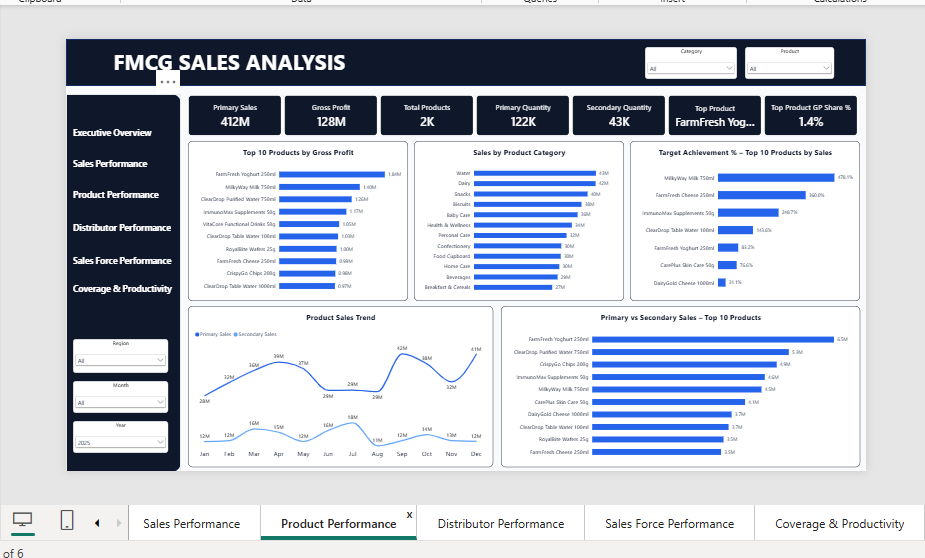

The page's visual inventory and layout, read from the dashboard file:
{"tool":"powerbi","page":{"name":"Product Performance","canvas":[2000,1082],"ordinal":2},"visuals":[{"type":"shape","box":[0,0,2000,117.5],"z":0},{"type":"textbox","box":[0,20,817.5,80],"z":1000},{"type":"shape","box":[0,137.5,287.5,945],"z":2000},{"type":"textbox","box":[17.5,297.5,237.5,32.5],"z":3000},{"type":"textbox","box":[17.5,220,215,45],"z":4000},{"type":"textbox","box":[17.5,375,255,35],"z":5000},{"type":"textbox","box":[17.5,457.5,255,37.5],"z":6000},{"type":"textbox","box":[17.5,540,255,37.5],"z":7000},{"type":"textbox","box":[17.5,610,255,37.5],"z":8000},{"type":"slicer","title":"Year","fields":{"Values":["DimDate.Year"]},"box":[17.5,955,237.5,80],"z":40300},{"type":"slicer","title":"Month","fields":{"Values":["DimDate.Month"]},"box":[17.5,855,237.5,80],"z":40400},{"type":"slicer","title":"Region","fields":{"Values":["DistributorMaster.Region"]},"box":[17.5,750,237.5,85],"z":40500},{"type":"slicer","title":"Category","fields":{"Values":["ProductMaster.Category"]},"box":[1447.5,20,230,80],"z":40600},{"type":"slicer","title":"Product","fields":{"Values":["ProductMaster.Product_Name"]},"box":[1697.5,20,222.5,80],"z":40700},{"type":"cardVisual","fields":{"Data":["_measures.Primary Sales","_measures.Gross Profit","_measures.Total Products","_measures.Primary Quantity","_measures.Secondary Quantity","_measures.Top Product","_measures.Top Product GP Share %"]},"box":[305,140,1680,102.5],"z":40800},{"type":"clusteredBarChart","title":"Top 10 Products by Gross Profit","fields":{"Category":["ProductMaster.Product_Name"],"Y":["_measures.Gross Profit"]},"box":[305,255,550,400],"z":40900},{"type":"clusteredBarChart","title":"Sales by Product Category","fields":{"Category":["ProductMaster.Category"],"Y":["_measures.Primary Sales"]},"box":[870,255,525,400],"z":41000},{"type":"lineChart","title":"Product Sales Trend","fields":{"Category":["DimDate.Month"],"Y":["_measures.Primary Sales","_measures.Secondary Sales"]},"box":[305,667.5,762.5,402.5],"z":41100},{"type":"clusteredBarChart","title":"Target Achievement % – Top 10 Products by Sales","fields":{"Category":["ProductMaster.Product_Name"],"Y":["_measures.Target Achievement %"]},"box":[1410,255,575,400],"z":41200},{"type":"clusteredBarChart","title":"Primary vs Secondary Sales – Top 10 Products","fields":{"Category":["ProductMaster.Product_Name"],"Y":["_measures.Total Sales"]},"box":[1087.5,667.5,897.5,402.5],"z":41300}]}

Visuals, with their boxes on the page's 2000x1082 design canvas (x1, y1, x2, y2). These are canvas units, not pixel positions in the 925x558 screenshot, which may show the page scaled, cropped or inside an application window:
shape: <bbox>0, 0, 2000, 118</bbox>
textbox: <bbox>0, 20, 818, 100</bbox>
shape: <bbox>0, 138, 288, 1082</bbox>
textbox: <bbox>18, 298, 255, 330</bbox>
textbox: <bbox>18, 220, 232, 265</bbox>
textbox: <bbox>18, 375, 272, 410</bbox>
textbox: <bbox>18, 458, 272, 495</bbox>
textbox: <bbox>18, 540, 272, 578</bbox>
textbox: <bbox>18, 610, 272, 648</bbox>
"Year" slicer: <bbox>18, 955, 255, 1035</bbox>
"Month" slicer: <bbox>18, 855, 255, 935</bbox>
"Region" slicer: <bbox>18, 750, 255, 835</bbox>
"Category" slicer: <bbox>1448, 20, 1678, 100</bbox>
"Product" slicer: <bbox>1698, 20, 1920, 100</bbox>
cardVisual - _measures.Primary Sales x _measures.Gross Profit: <bbox>305, 140, 1985, 242</bbox>
"Top 10 Products by Gross Profit" clusteredBarChart: <bbox>305, 255, 855, 655</bbox>
"Sales by Product Category" clusteredBarChart: <bbox>870, 255, 1395, 655</bbox>
"Product Sales Trend" lineChart: <bbox>305, 668, 1068, 1070</bbox>
"Target Achievement % – Top 10 Products by Sales" clusteredBarChart: <bbox>1410, 255, 1985, 655</bbox>
"Primary vs Secondary Sales – Top 10 Products" clusteredBarChart: <bbox>1088, 668, 1985, 1070</bbox>
